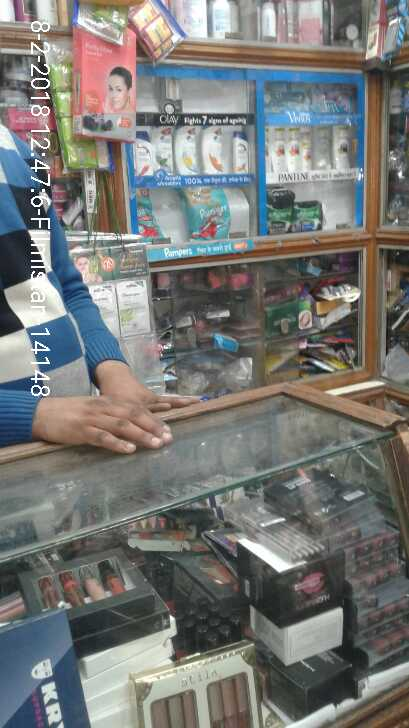venus: (263, 88, 311, 112), (311, 87, 355, 112)
